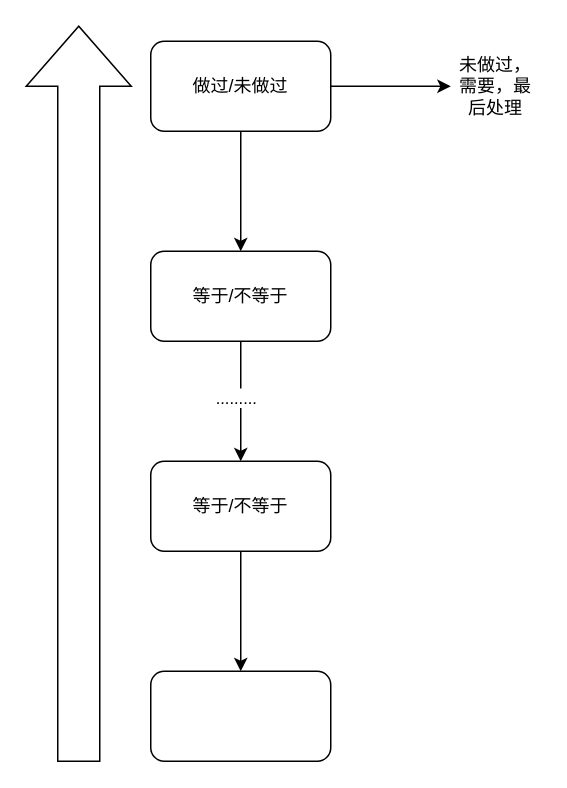
Image size: 567x788. Some labels were removed from this diagram. Here are the shapes that lost their labels. From the top down, the box of each, then its label:
(25, 25, 131, 761): 反向筛选
(149, 670, 331, 761): >或<
